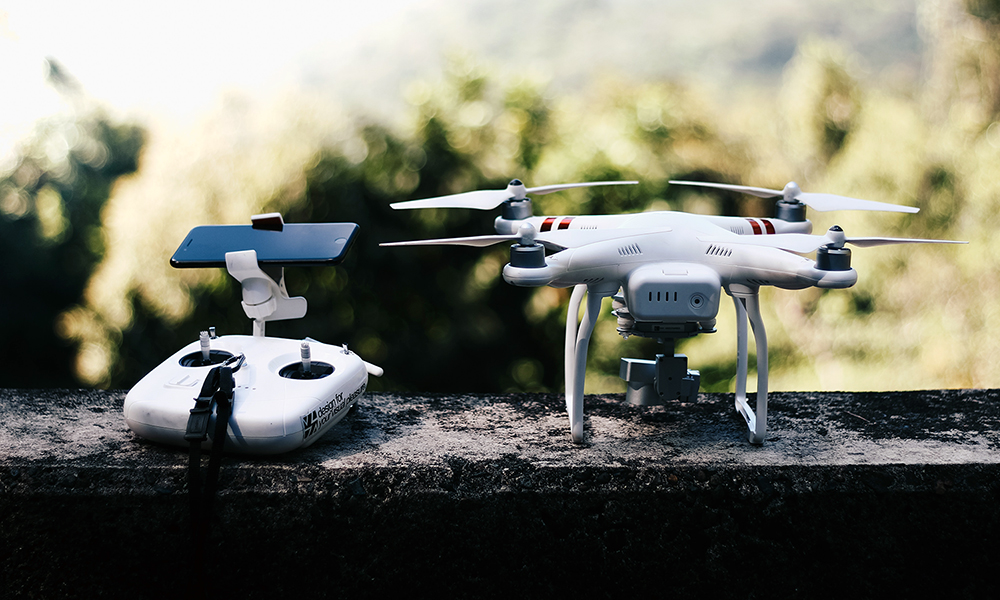drone: (371, 162, 971, 450)
